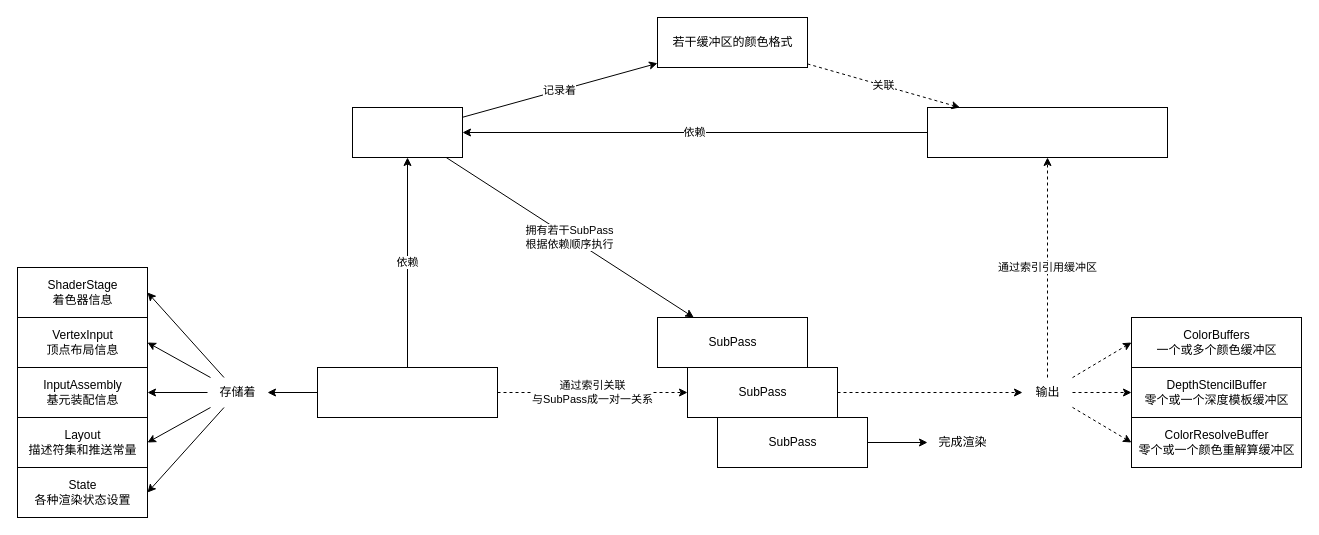
Some shapes in this 1319 by 535 pixel diagram are drawn without their labels. The shapes that lost their labels are listed below. From the top down, each one's centre as x and y in pixels, then its label:
the point at 407,132: RenderPass
the point at 1047,132: FrameBuffer 保存着任意数量种类的缓冲区
the point at 407,392: Pipeline 存储着各种管线渲染所需的信息
